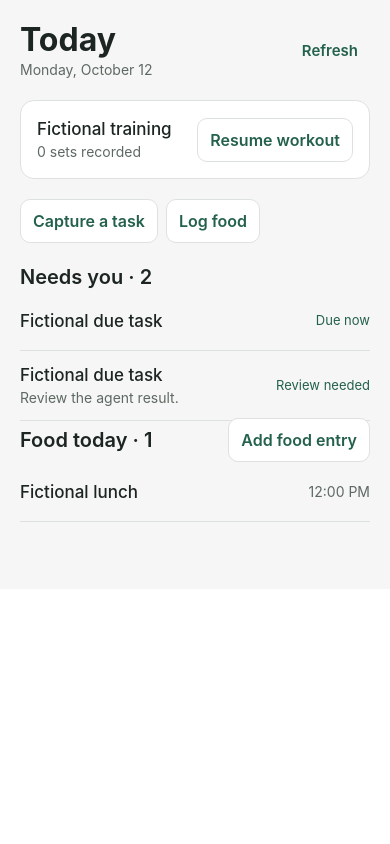
it: retains last confirmed attention through a failed refresh and recovers explicitly
Expected: the heading "Food today · 1" is shown, x1=20 y1=426 x2=152 y2=454
Click the button with aria-label "Refresh Today": (330, 50) x1=290 y1=28 x2=370 y2=72
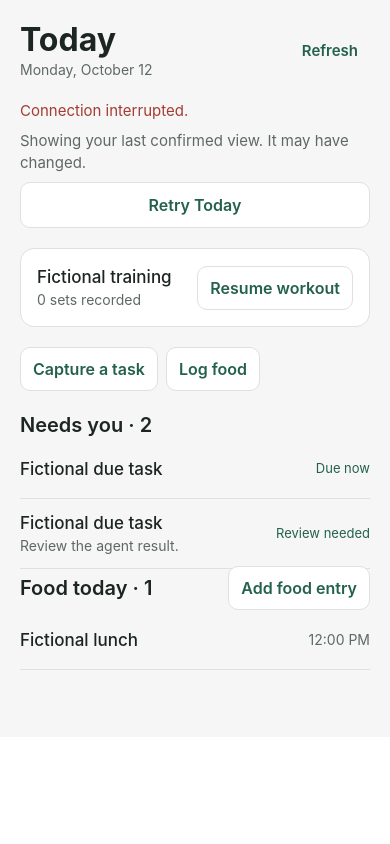
Expected: the button "Resume workout" is shown, x1=197 y1=266 x2=353 y2=310
Expected: the text "Connection interrupted." is shown, x1=20 y1=101 x2=188 y2=120
Expected: the text "Showing your last confirmed view. It may have changed." is shown, x1=20 y1=130 x2=370 y2=174
Click the button "Retry Today": (195, 205) x1=20 y1=182 x2=370 y2=228
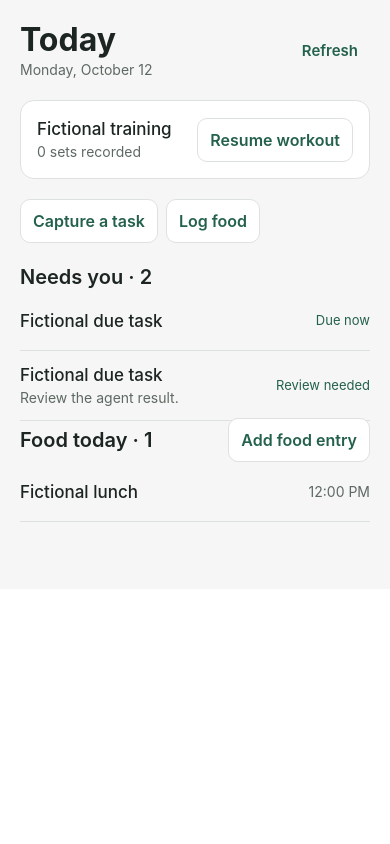
Expected: the text "Connection interrupted." is gone
